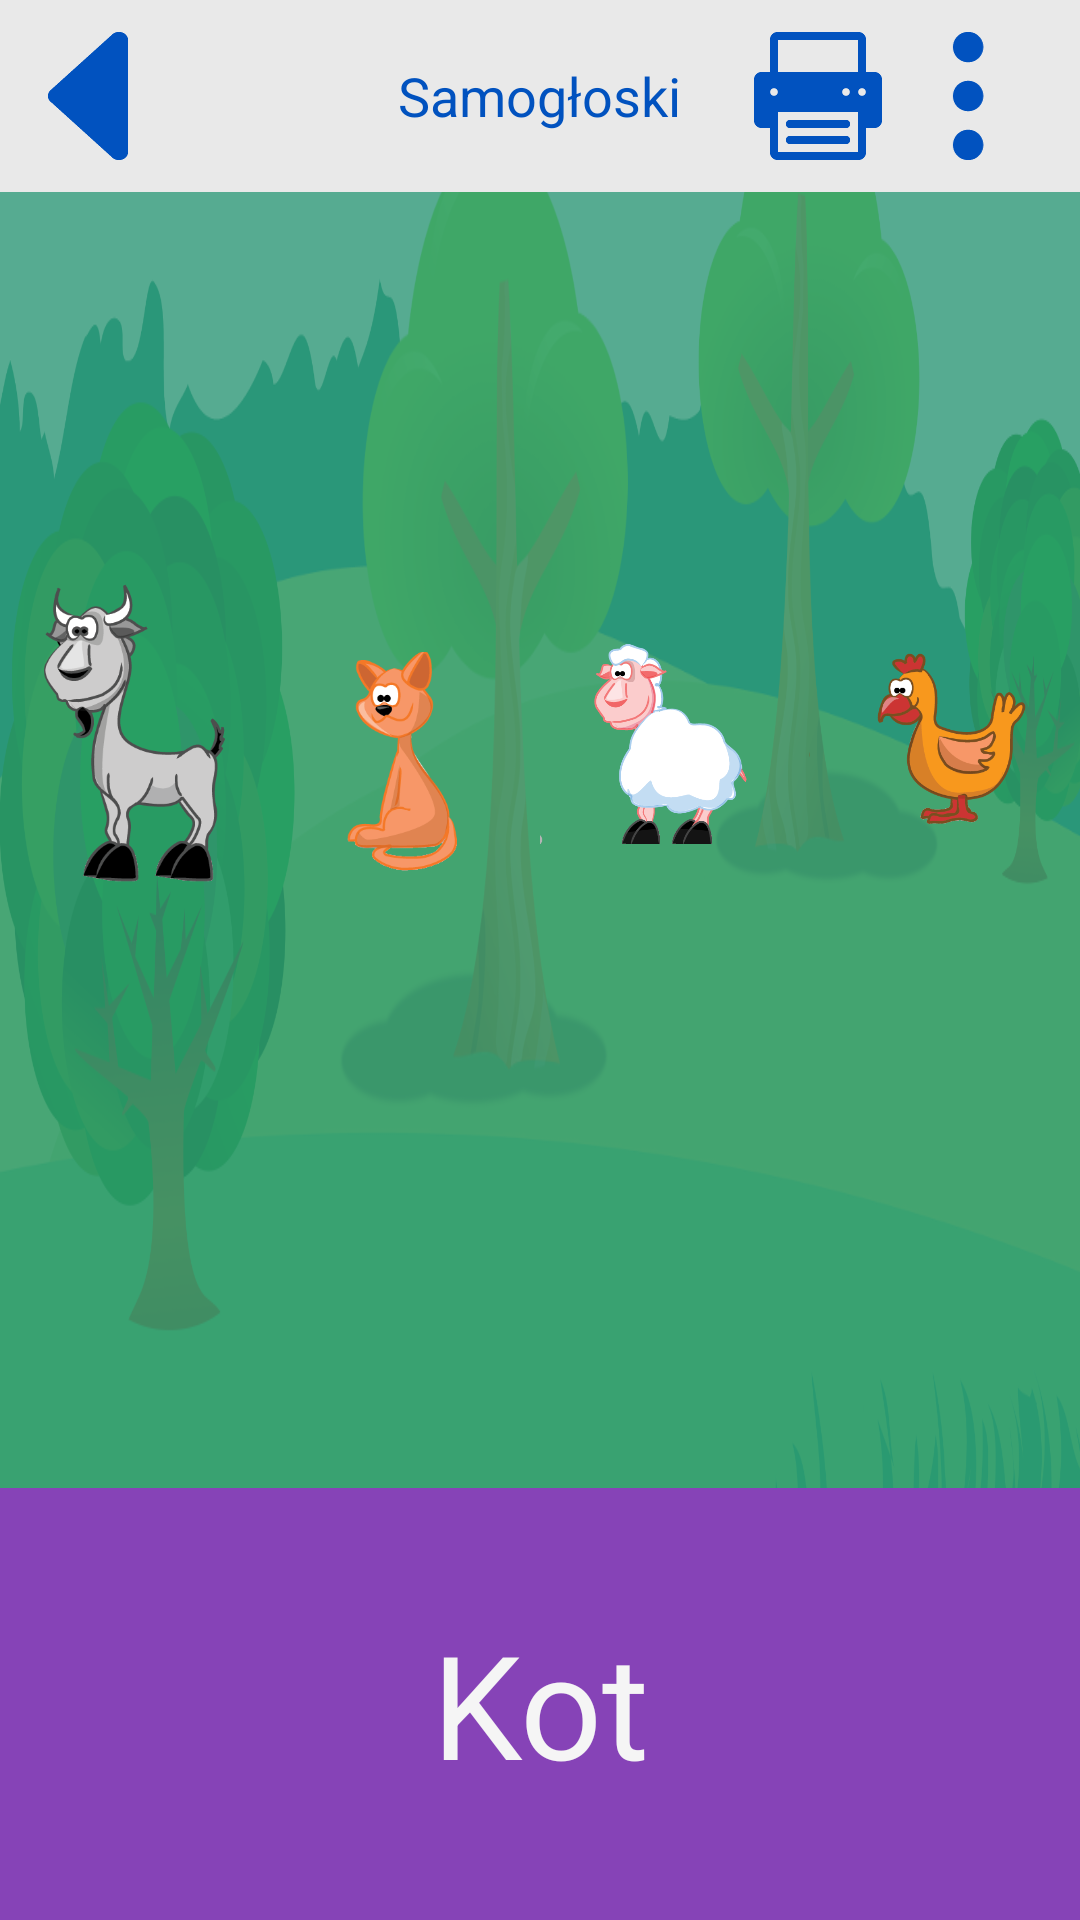

Named icons in this screenshot (1080*1920) and their centers, [x,y]:
Przycisk powrotu: [88,96]
Przycisk wydruku: [818,96]
